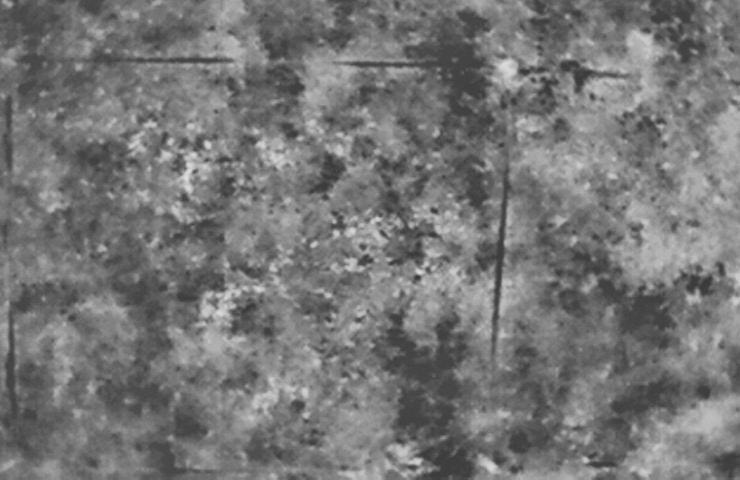landmines: (197, 287, 245, 323)
